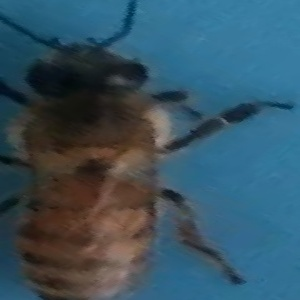bee: (2, 7, 287, 300)
